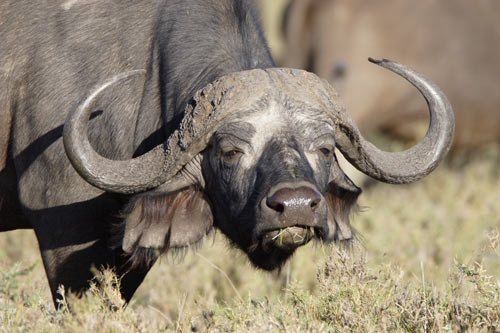buffalo: (1, 1, 457, 311)
